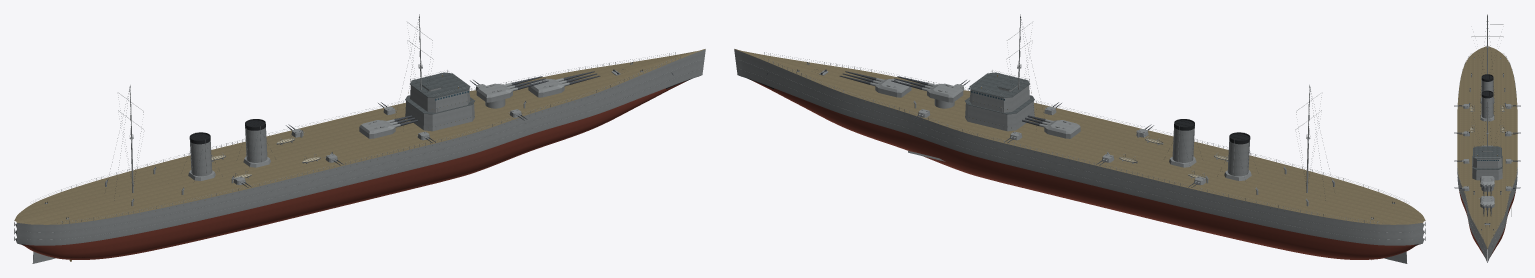
3 renders of one model, left to right at view 1: azimuth 30°, elevation 25°; view 2: azimuth 150°, elevation 25°; view 3: azimuth 270°, elevation 25°, orthographic. The views are drawn at different scales.
Visible parts, largest first — view 1: G3 battlecruiser (canceled); view 2: G3 battlecruiser (canceled); view 3: G3 battlecruiser (canceled).
Part boxes in pixels (left/top/right/bottom): G3 battlecruiser (canceled): left=14, top=14, right=705, bottom=263; G3 battlecruiser (canceled): left=734, top=14, right=1425, bottom=263; G3 battlecruiser (canceled): left=1454, top=14, right=1520, bottom=262.
Size of the model in its own units: 261 by 56.99 by 35.87.
9 materials, 8 textured.
